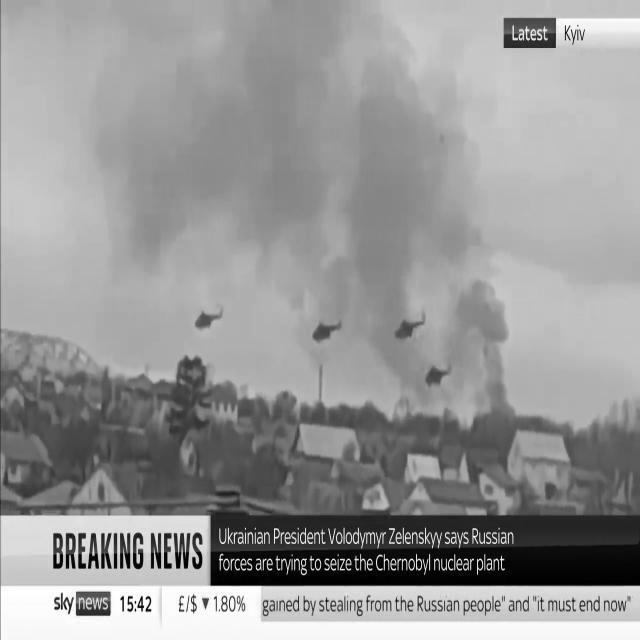helikopter: (301, 298, 353, 360), (386, 291, 434, 358), (186, 290, 234, 344)
